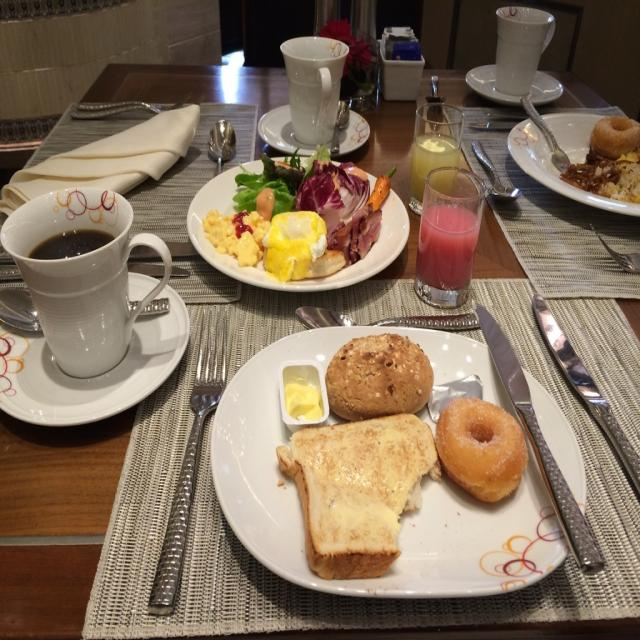Coffee: (27, 227, 118, 260)
Tea: (32, 227, 114, 258)
